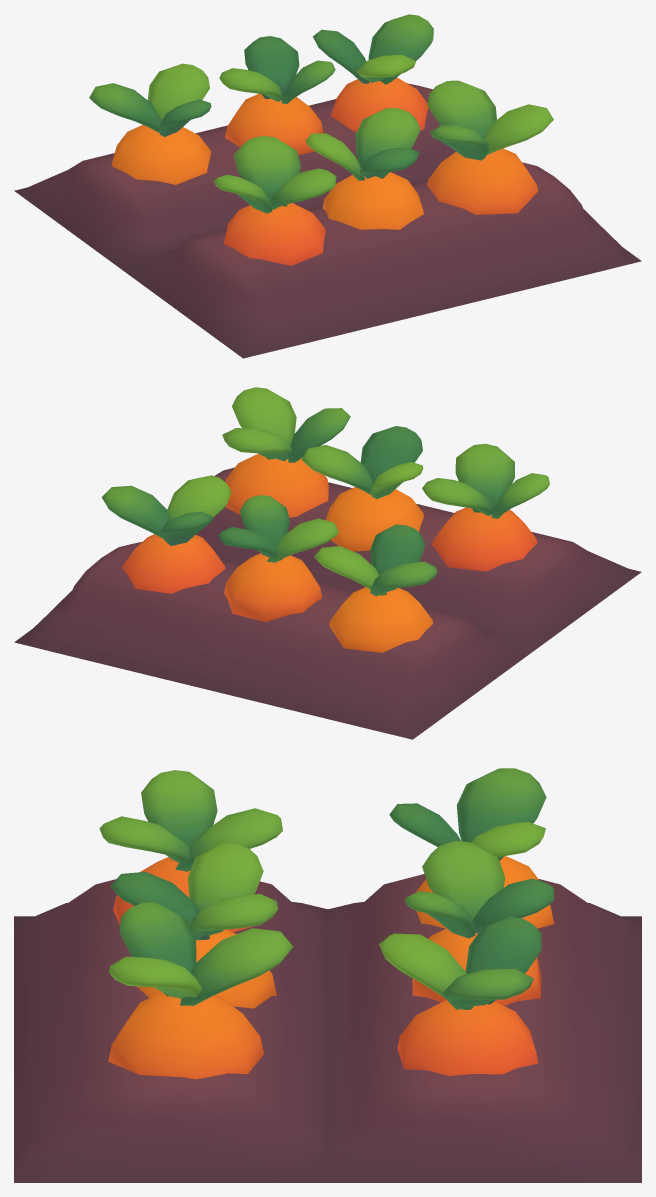
Rendered from farm_carrot.glb.
The picture shows the model from 3 angles, top to bottom: view 1: azimuth 30°, elevation 25°; view 2: azimuth 150°, elevation 25°; view 3: azimuth 270°, elevation 25°; orthographic projection. The views are drawn at different scales.
Parts seen in each view (by area): view 1: Farm_Carrot.001_Material.005_0; view 2: Farm_Carrot.001_Material.005_0; view 3: Farm_Carrot.001_Material.005_0.
Part boxes in pixels (<box>): Farm_Carrot.001_Material.005_0: <box>14,14,641,358</box>; Farm_Carrot.001_Material.005_0: <box>14,387,641,739</box>; Farm_Carrot.001_Material.005_0: <box>14,768,641,1182</box>.
Bounding box in the file's own units: 2 × 0.6396 × 1.99.
Materials: 1 (1 with a texture image).
